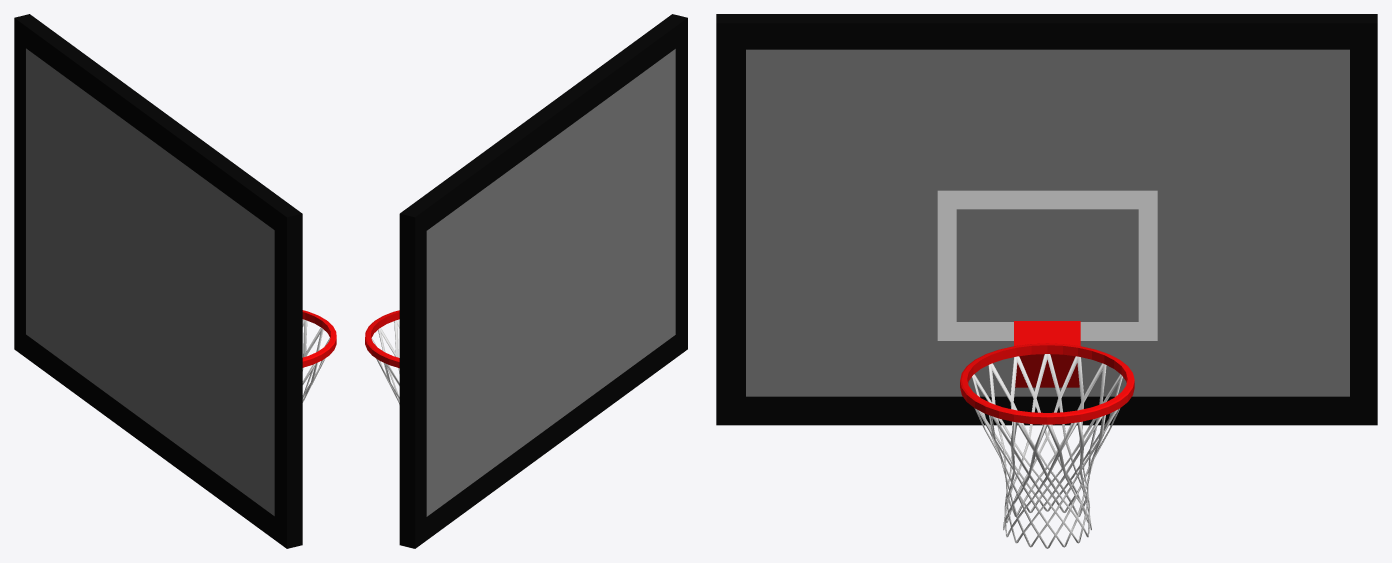
The model's file is Basketball Goal V2.fbx.
The picture shows the model from 3 angles, left to right: view 1: azimuth 30°, elevation 25°; view 2: azimuth 150°, elevation 25°; view 3: azimuth 270°, elevation 25°; orthographic projection. The views are drawn at different scales.
Visible parts, largest first — view 1: Backboard, Rim, Net; view 2: Backboard, Rim, Net; view 3: Backboard, Net, Rim.
Boxes of the visible parts, <box> form: Backboard: <box>14,14,302,548</box>; Rim: <box>302,310,336,367</box>; Net: <box>302,319,330,402</box>; Backboard: <box>399,14,687,548</box>; Rim: <box>365,310,399,368</box>; Net: <box>371,320,399,404</box>; Backboard: <box>716,14,1377,425</box>; Net: <box>971,354,1122,548</box>; Rim: <box>960,321,1134,424</box>.
Bounding box in the file's own units: 182 × 364 × 487.
